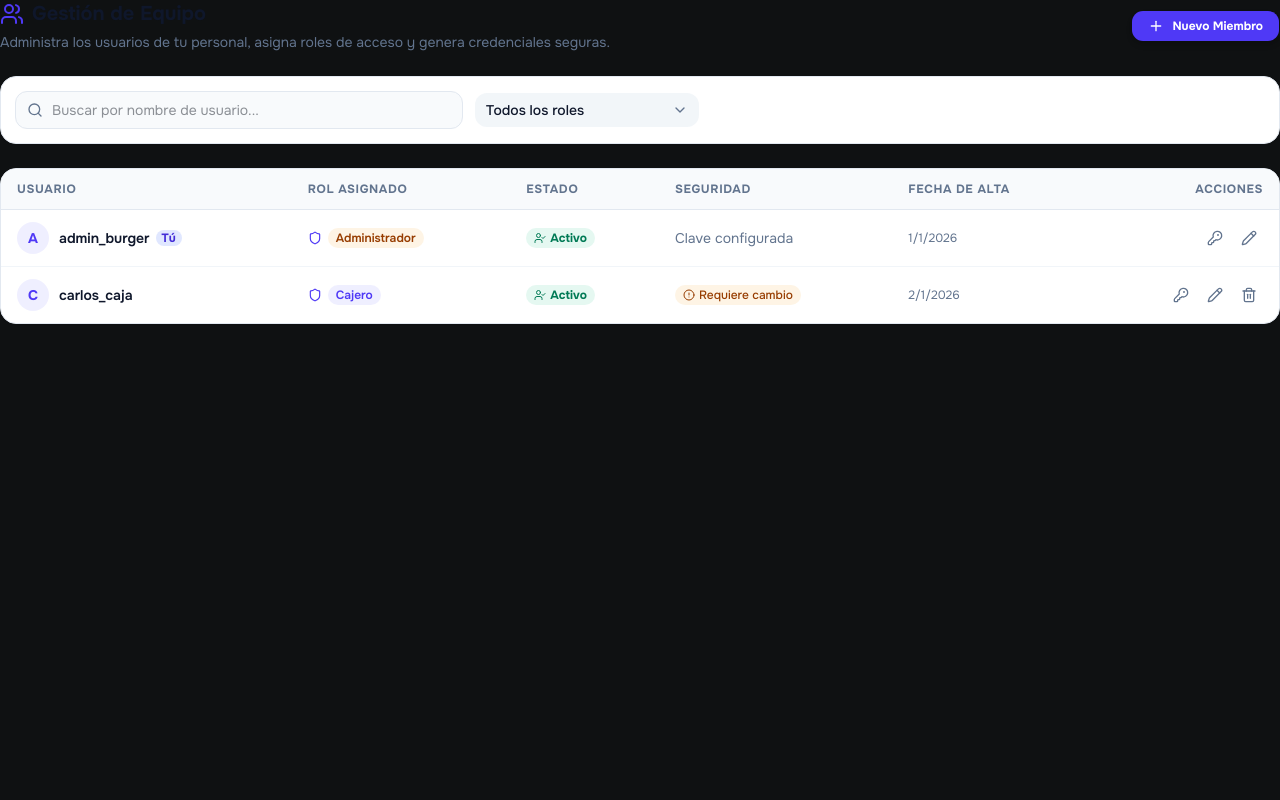
TeamManager Component (TDD) › resets password of a staff member and shows temporary password modal
Check: the text "carlos_caja" is shown, box [59,285,133,305]
Click the button named "Restablecer clave carlos_caja": (1181, 295) [1167,281,1195,309]
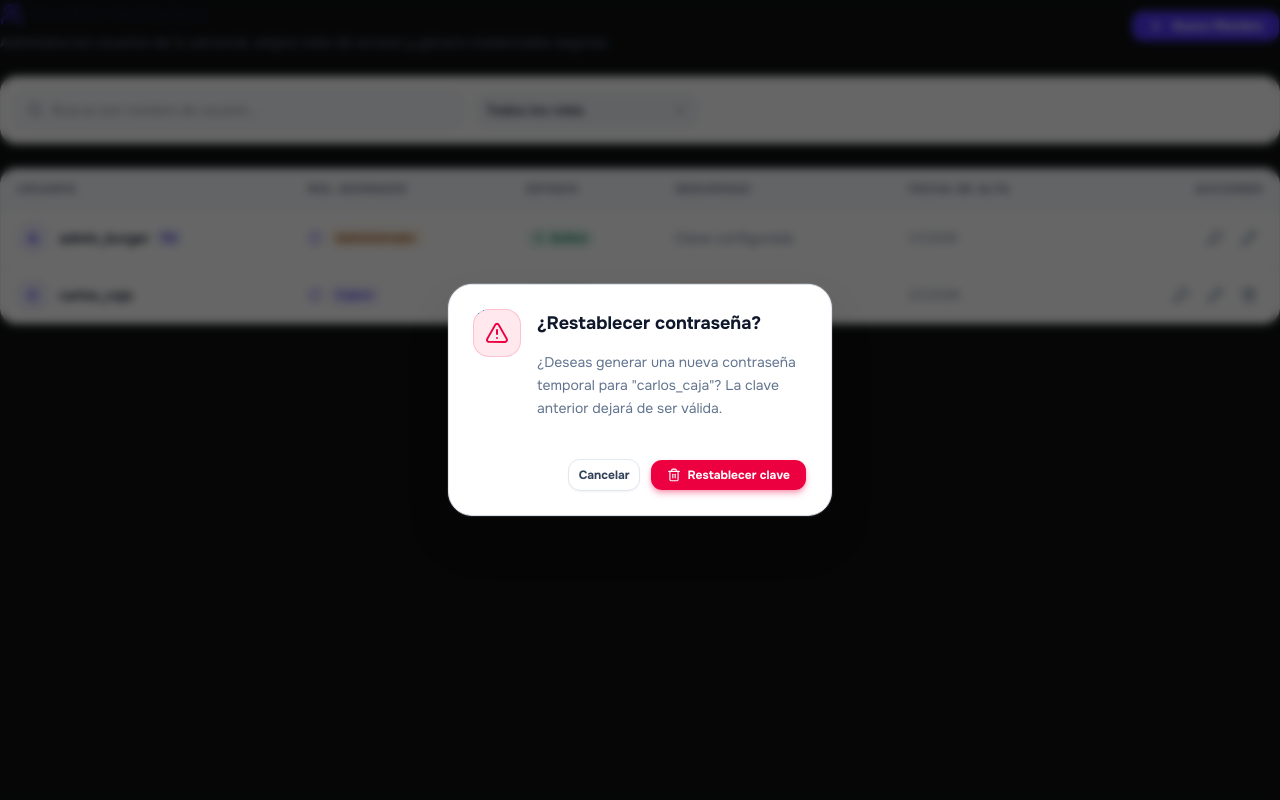
Check: the heading "¿Restablecer contraseña?" is shown, box [537,312,761,334]
Click the button "Restablecer clave": (729, 475) [650,459,807,491]
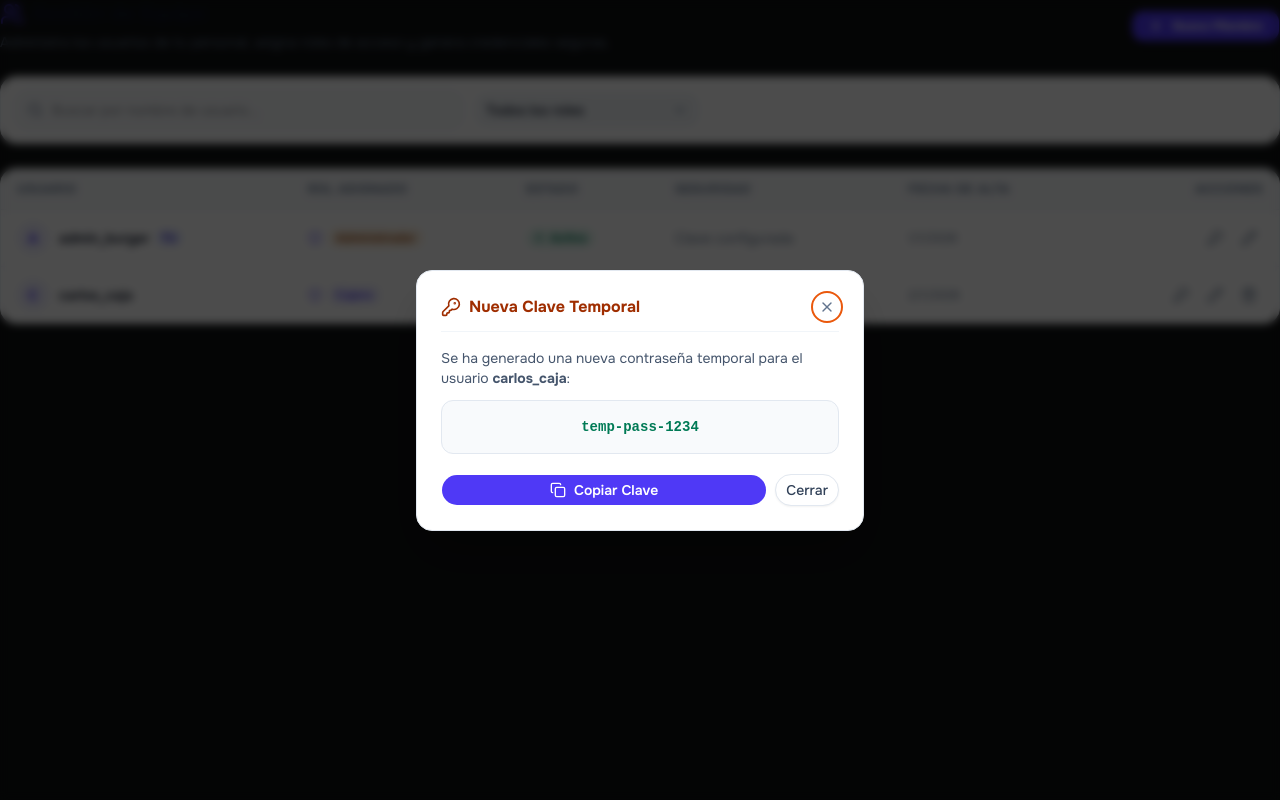
Check: the text "Nueva Clave Temporal" is shown, box [469,294,640,318]
Check: the text "temp-pass-1234" is shown, box [441,400,839,454]
